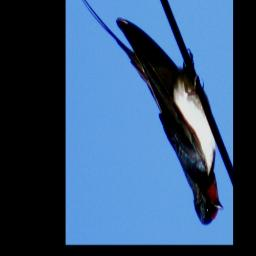Swallow: (74, 0, 224, 227)
